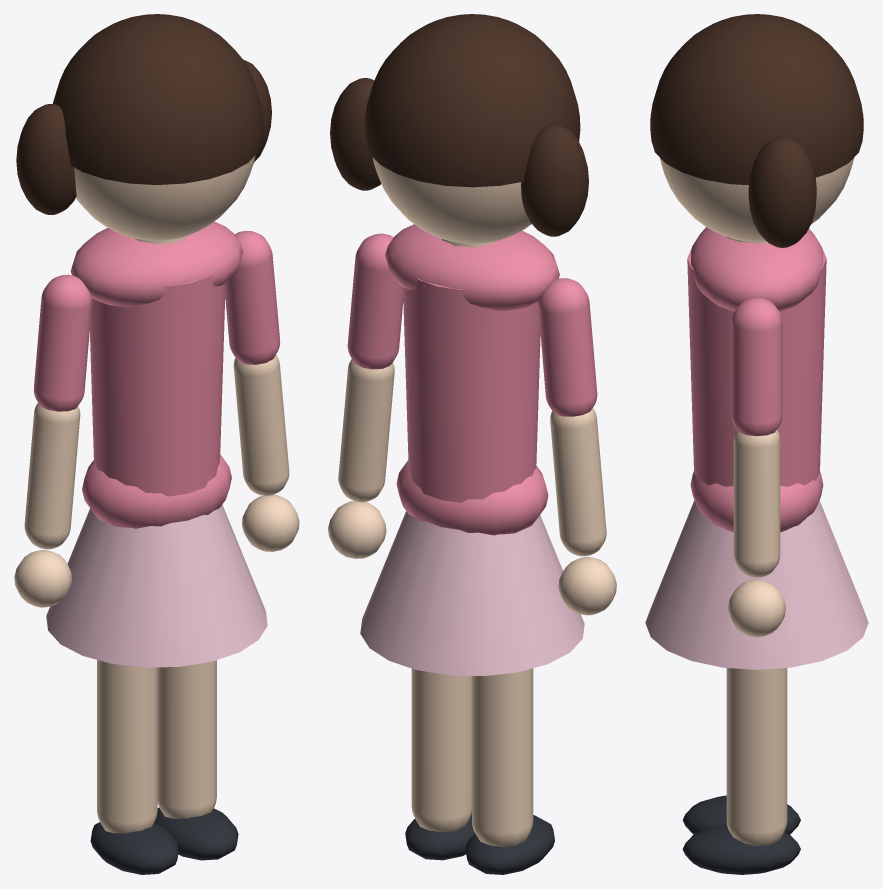
File: girl.glb
3 views of the same model, side by side, from view 1: azimuth 30°, elevation 25°; view 2: azimuth 150°, elevation 25°; view 3: azimuth 270°, elevation 25° (orthographic).
Visible parts, largest first — view 1: hair_cap, skirt, torso_top, forearm (×2), sleeve_top (×2), leg_l, shoulder_top, leg_r, head, pelvis_top, hand (×2), hair_tail_l (+3 smaller); view 2: hair_cap, skirt, torso_top, forearm (×2), sleeve_top (×2), leg_l, shoulder_top, leg_r, head, hair_tail_l, pelvis_top, hand (×2) (+3 smaller); view 3: hair_cap, skirt, torso_top, leg_r, shoulder_top, sleeve_top, forearm, hair_tail_r, head, shoe_r, pelvis_top, hand (+1 smaller).
Boxes of the visible parts, left/top/right/bottom form: hair_cap: left=53, top=14, right=263, bottom=184; skirt: left=46, top=504, right=267, bottom=667; torso_top: left=89, top=274, right=225, bottom=496; forearm (×2): left=24, top=354, right=289, bottom=549; sleeve_top (×2): left=33, top=230, right=280, bottom=411; leg_l: left=97, top=660, right=157, bottom=833; shoulder_top: left=70, top=221, right=243, bottom=306; leg_r: left=157, top=660, right=216, bottom=818; head: left=74, top=155, right=255, bottom=240; pelvis_top: left=82, top=455, right=231, bottom=528; hand (×2): left=14, top=495, right=299, bottom=607; hair_tail_l: left=16, top=104, right=76, bottom=214; hair_cap: left=364, top=14, right=580, bottom=187; skirt: left=360, top=511, right=584, bottom=675; torso_top: left=403, top=278, right=540, bottom=502; forearm (×2): left=338, top=359, right=606, bottom=556; sleeve_top (×2): left=347, top=233, right=597, bottom=416; leg_l: left=472, top=668, right=533, bottom=846; shoulder_top: left=385, top=224, right=559, bottom=310; leg_r: left=411, top=668, right=471, bottom=832; head: left=372, top=157, right=531, bottom=243; hair_tail_l: left=521, top=124, right=588, bottom=236; pelvis_top: left=396, top=460, right=548, bottom=535; hand (×2): left=328, top=501, right=616, bottom=615; hair_cap: left=650, top=14, right=863, bottom=185; skirt: left=645, top=500, right=868, bottom=669; torso_top: left=687, top=248, right=826, bottom=486; leg_r: left=726, top=668, right=787, bottom=845; shoulder_top: left=690, top=227, right=823, bottom=311; sleeve_top: left=731, top=297, right=782, bottom=436; forearm: left=733, top=429, right=780, bottom=577; hair_tail_r: left=748, top=136, right=816, bottom=247; head: left=659, top=157, right=854, bottom=241; shoe_r: left=682, top=824, right=800, bottom=874; pelvis_top: left=690, top=472, right=823, bottom=532; hand: left=728, top=579, right=785, bottom=637.
Size of the model in its own units: 0.6113 by 1.74 by 0.425.
